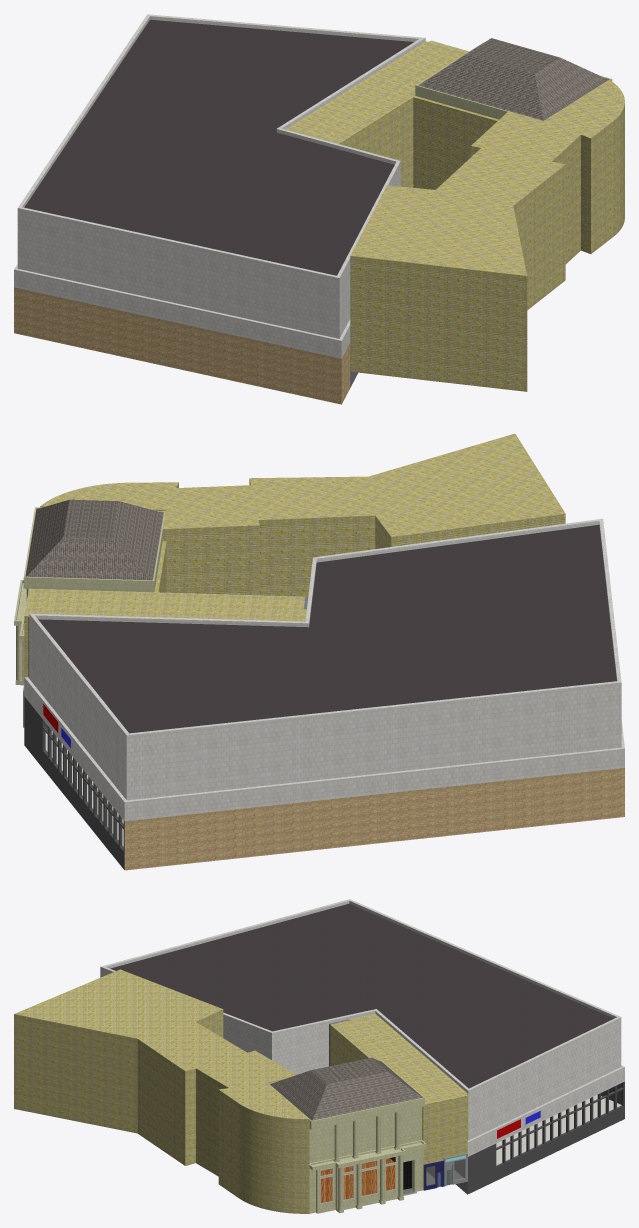
File: tesco_simple.glb
The picture shows the model from 3 angles, top to bottom: view 1: azimuth 30°, elevation 25°; view 2: azimuth 150°, elevation 25°; view 3: azimuth 270°, elevation 25°; orthographic projection. The views are drawn at different scales.
Visible parts, largest first — view 1: root; view 2: root; view 3: root.
Part boxes in pixels (<box>): root: <box>14,14,624,404</box>; root: <box>14,433,624,870</box>; root: <box>14,899,624,1213</box>.
Size of the model in its own units: 65.69 by 16.95 by 73.58.
Materials: 23 (16 with a texture image).
